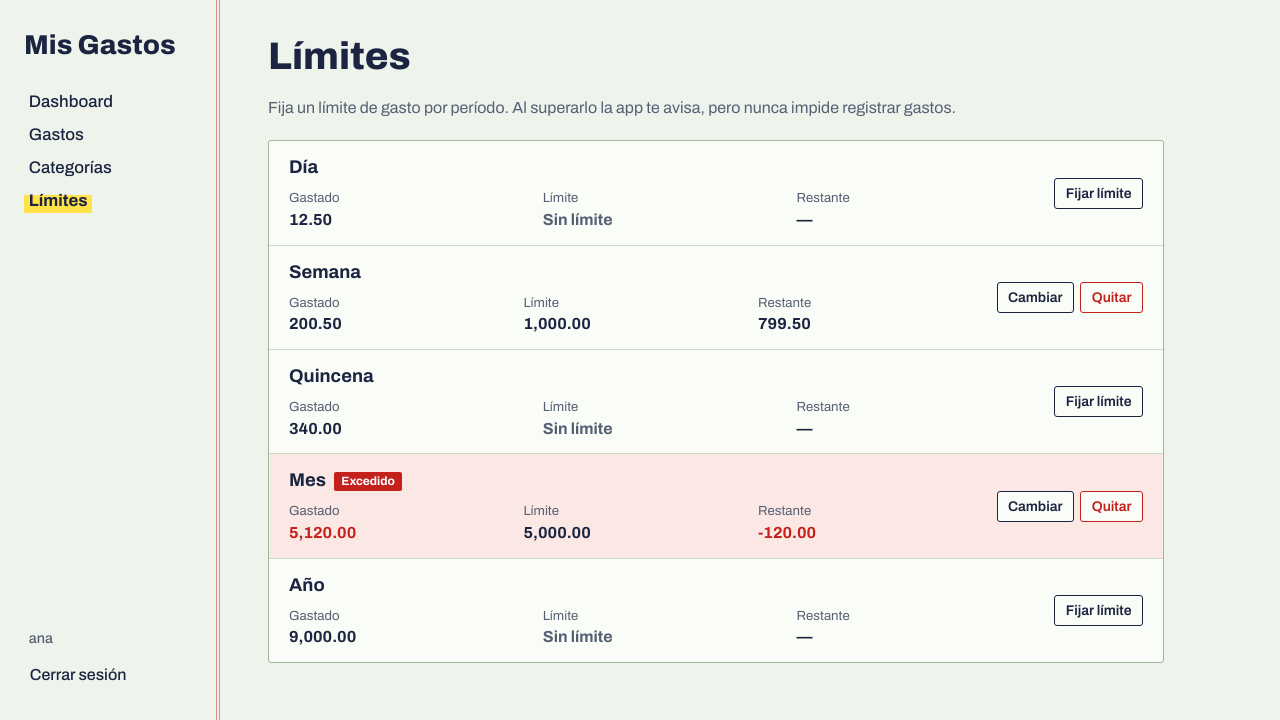
Test case: LimitsPage: set, change and remove › changes an existing limit starting from its current amount
Expected: the heading "Límites" is shown, [268,36,411,76]
Click the button with aria-label "Cambiar límite de Mes" at (1035, 506), box [996,491,1074,522]
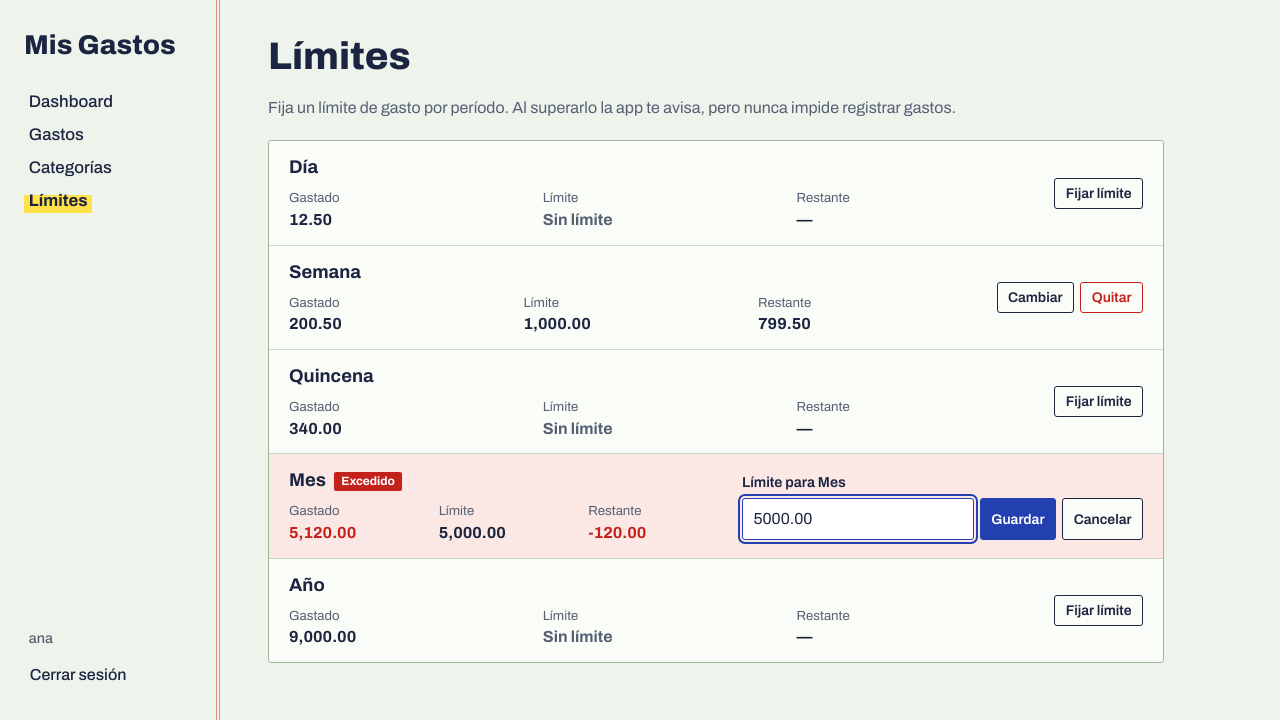
Result: the field labelled "Límite para Mes" holds "5000.00"
Replace the text in the field labelled "Límite para Mes" with "6000.50" at (858, 519), box [742,498,974,540]
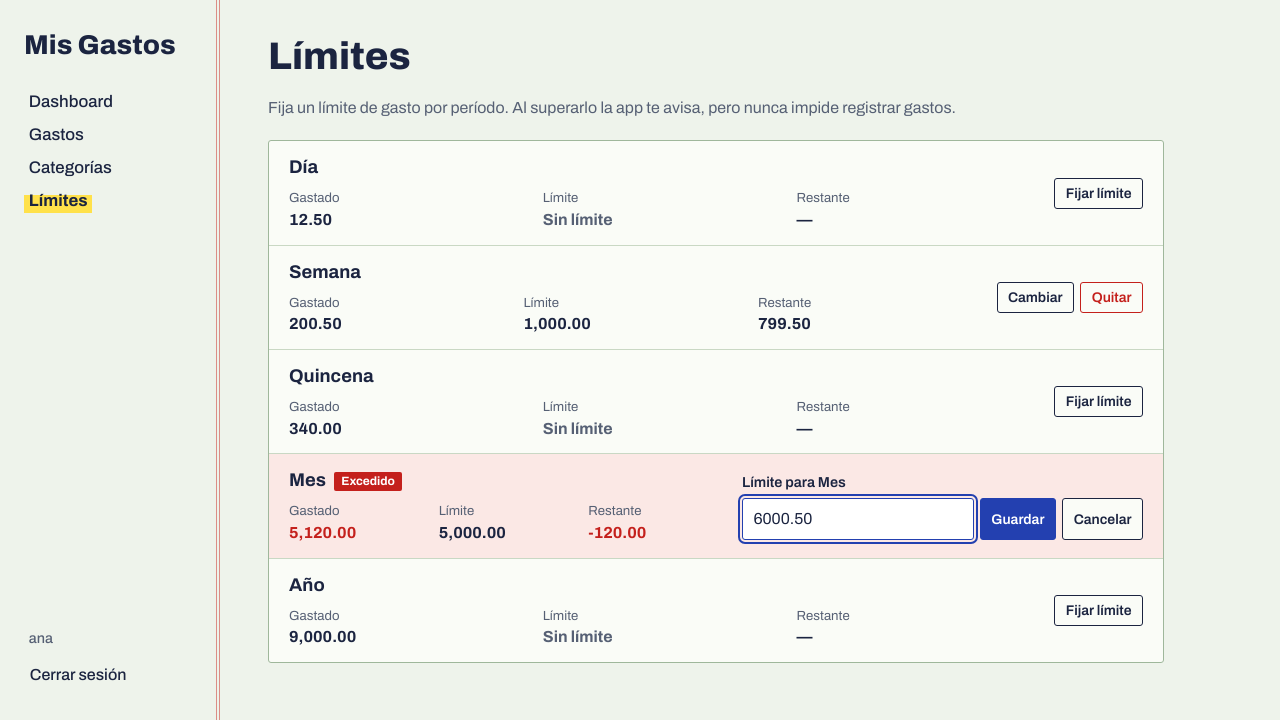
Click the button "Guardar" at (1018, 519), box [980,498,1056,540]
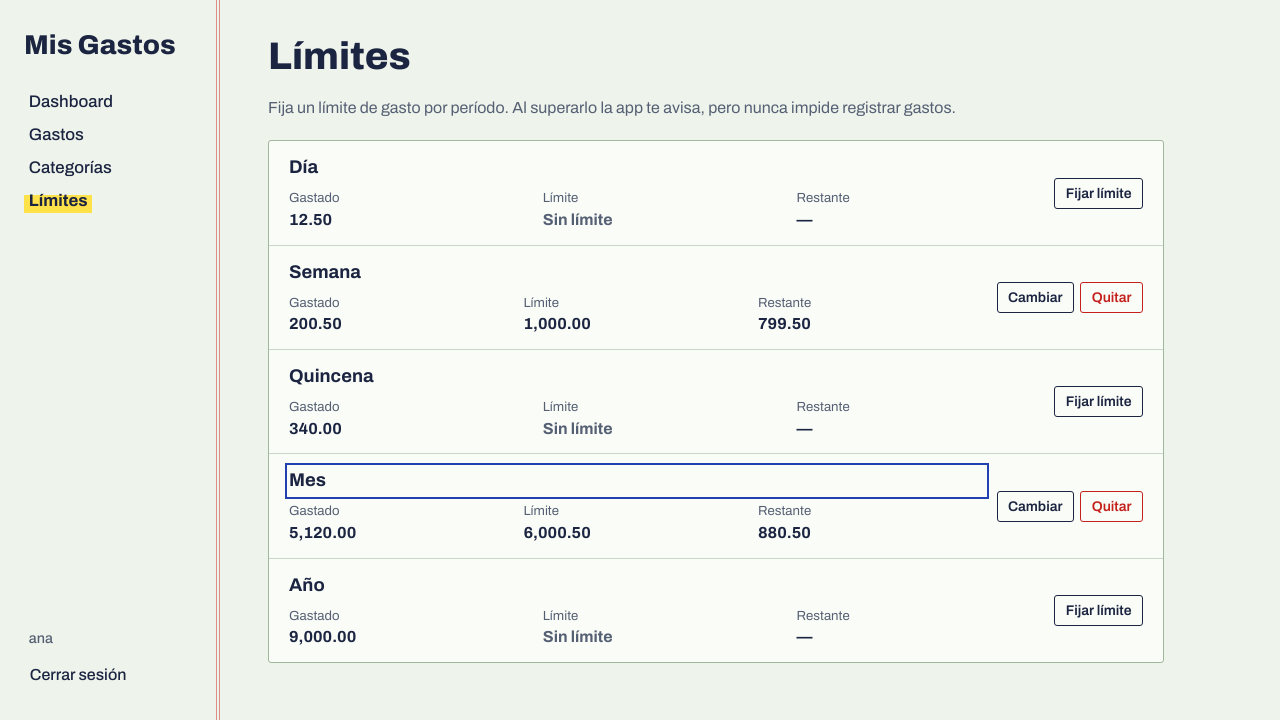
Result: the text "6,000.50" is shown at [524,524,591,541]
Result: the text "Excedido" is gone
